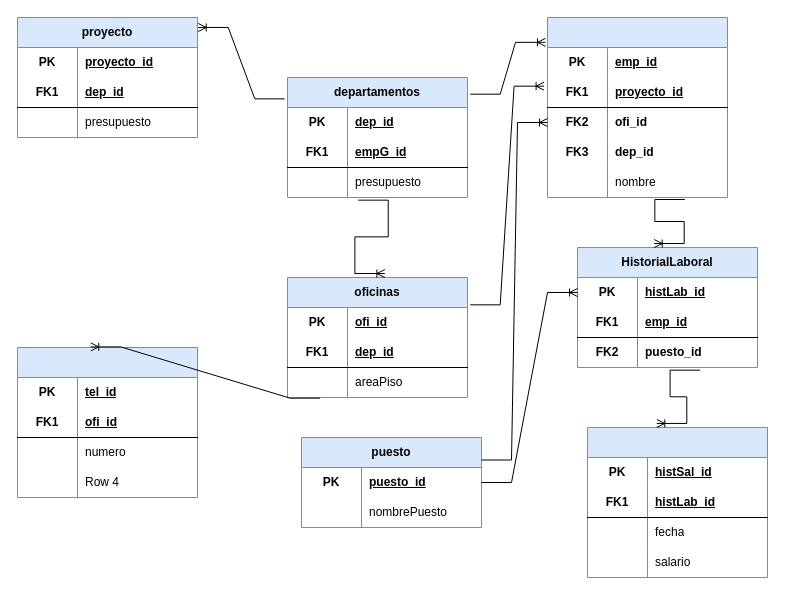
Some shapes in this 785 by 595 pixel diagram are drawn without their labels. Here are the shapes that lost their labels. From the top down, the box of each, then its label:
(546, 16, 728, 198): empleados
(16, 346, 198, 498): telefono
(586, 426, 768, 578): HistorialSalarial
